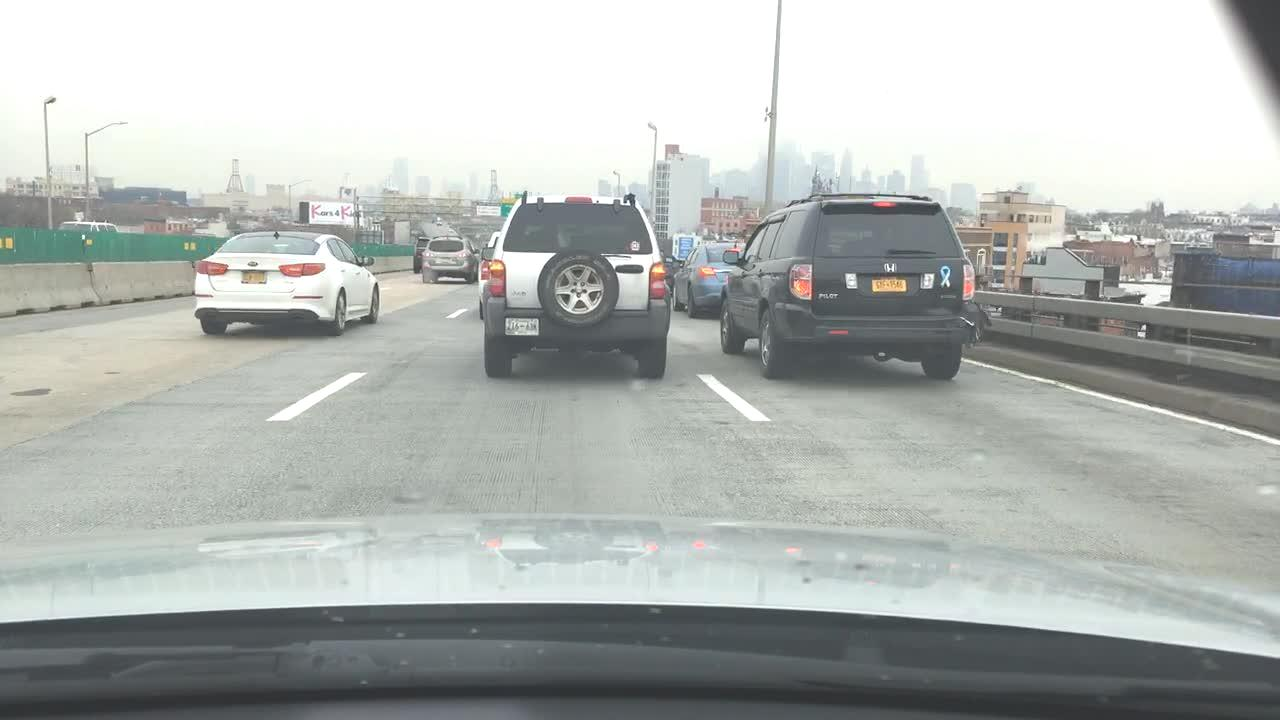Honda: (880, 258, 899, 280)
kia: (242, 258, 266, 271)
